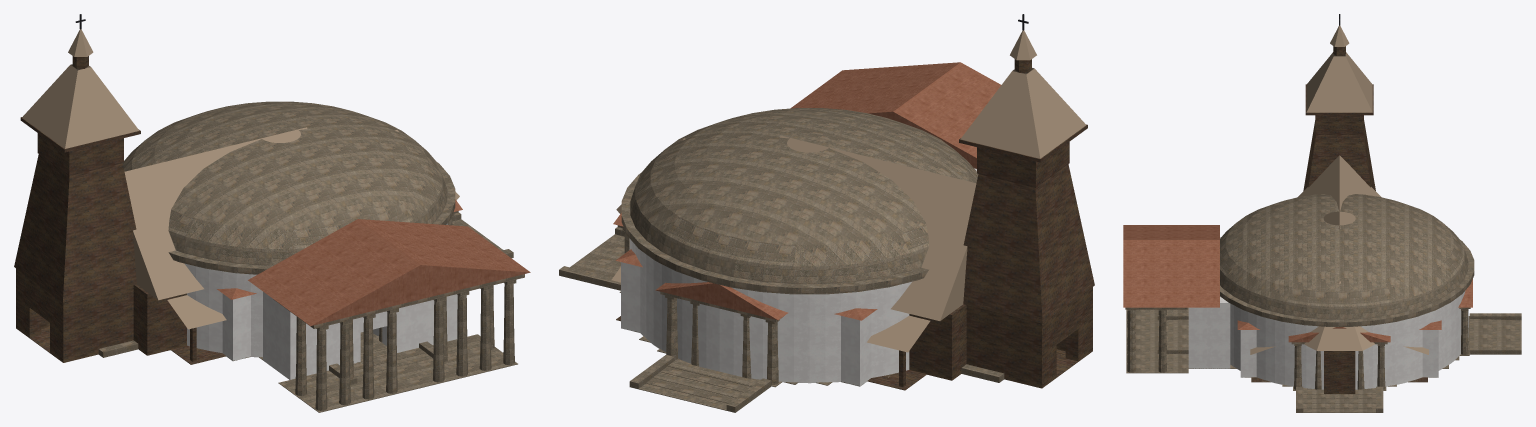
File: budowle.glb
3 renders of one model, left to right at view 1: azimuth 30°, elevation 25°; view 2: azimuth 150°, elevation 25°; view 3: azimuth 270°, elevation 25°, orthographic. The views are drawn at different scales.
Parts seen in each view (by area): view 1: panteon_dach, kosciol_dach, panteon_baza, kosciol_baza, rotonda_baza, rotonda_dach; view 2: panteon_dach, kosciol_dach, rotonda_baza, kosciol_baza, panteon_baza, rotonda_dach; view 3: panteon_dach, kosciol_dach, panteon_baza, rotonda_baza, rotonda_dach, kosciol_baza.
Boxes of the visible parts, bbox=[...] form: panteon_dach: bbox=[122, 101, 530, 380]; kosciol_dach: bbox=[14, 14, 459, 332]; panteon_baza: bbox=[187, 309, 517, 412]; kosciol_baza: bbox=[16, 298, 225, 364]; rotonda_baza: bbox=[98, 212, 513, 384]; rotonda_dach: bbox=[217, 199, 462, 330]; panteon_dach: bbox=[621, 62, 1001, 350]; kosciol_dach: bbox=[611, 14, 1094, 355]; rotonda_baza: bbox=[559, 227, 1004, 412]; kosciol_baza: bbox=[616, 316, 1092, 390]; panteon_baza: bbox=[634, 300, 909, 385]; rotonda_dach: bbox=[613, 213, 877, 353]; panteon_dach: bbox=[1123, 194, 1474, 366]; kosciol_dach: bbox=[1250, 14, 1428, 371]; panteon_baza: bbox=[1126, 307, 1469, 389]; rotonda_baza: bbox=[1157, 313, 1521, 412]; rotonda_dach: bbox=[1237, 279, 1472, 366]; kosciol_baza: bbox=[1251, 372, 1427, 394].
Bounding box in the file's own units: 38.11 × 26.2 × 38.3.
7 materials, 4 textured.
